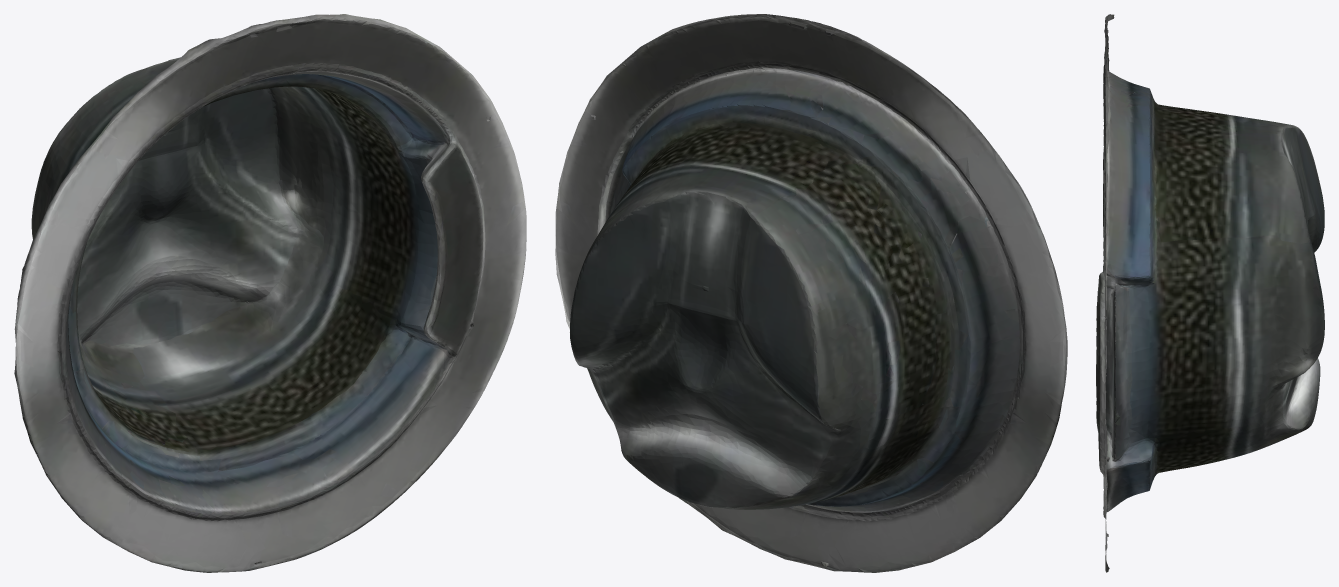
The model's file is door_front.glb.
The picture shows the model from 3 angles, left to right: view 1: azimuth 30°, elevation 25°; view 2: azimuth 150°, elevation 25°; view 3: azimuth 270°, elevation 25°; orthographic projection. The views are drawn at different scales.
Parts seen in each view (by area): view 1: source_surface_0; view 2: source_surface_0; view 3: source_surface_0.
Part boxes in pixels (box(x1,y1,x2,y2)): source_surface_0: box(14, 14, 526, 572); source_surface_0: box(555, 14, 1067, 572); source_surface_0: box(1096, 14, 1324, 572).
Bounding box in the file's own units: 0.486 × 0.4944 × 0.2023.
1 material, 1 textured.
